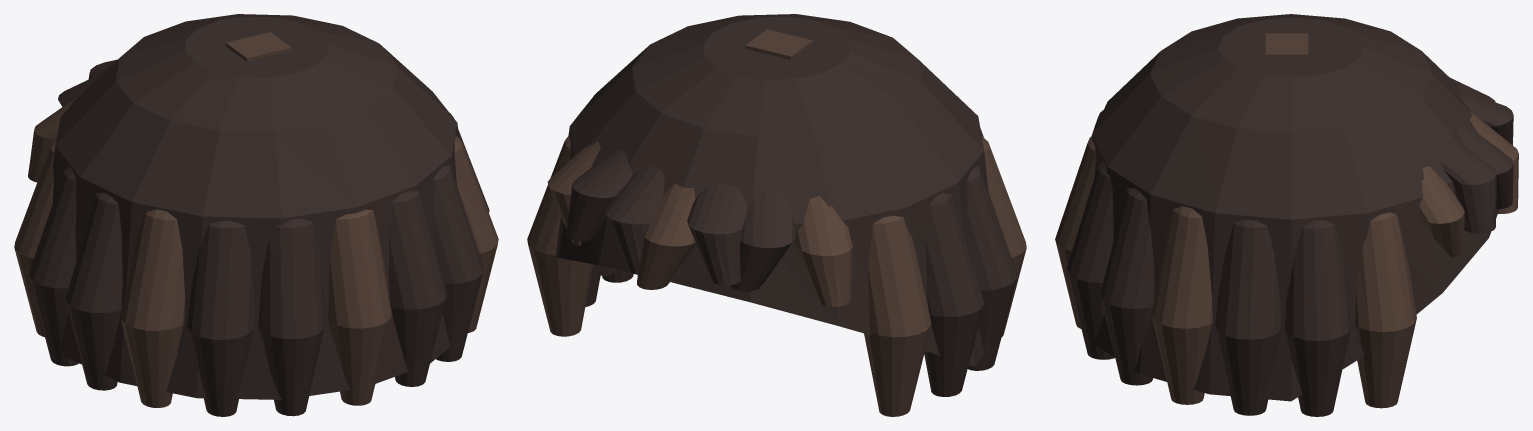
3 views of the same model, side by side, from view 1: azimuth 30°, elevation 25°; view 2: azimuth 150°, elevation 25°; view 3: azimuth 270°, elevation 25° (orthographic). The views are drawn at different scales.
Visible parts, largest first — view 1: CHAR-087; view 2: CHAR-087; view 3: CHAR-087.
Part boxes in pixels (bbox=[...]): CHAR-087: bbox=[14, 14, 498, 416]; CHAR-087: bbox=[527, 14, 1026, 416]; CHAR-087: bbox=[1055, 14, 1518, 416].
Bounding box in the file's own units: 0.2839 × 0.1823 × 0.273.
Materials: 2 (2 with a texture image).
